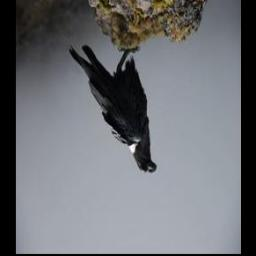Crow: (67, 39, 157, 180)
